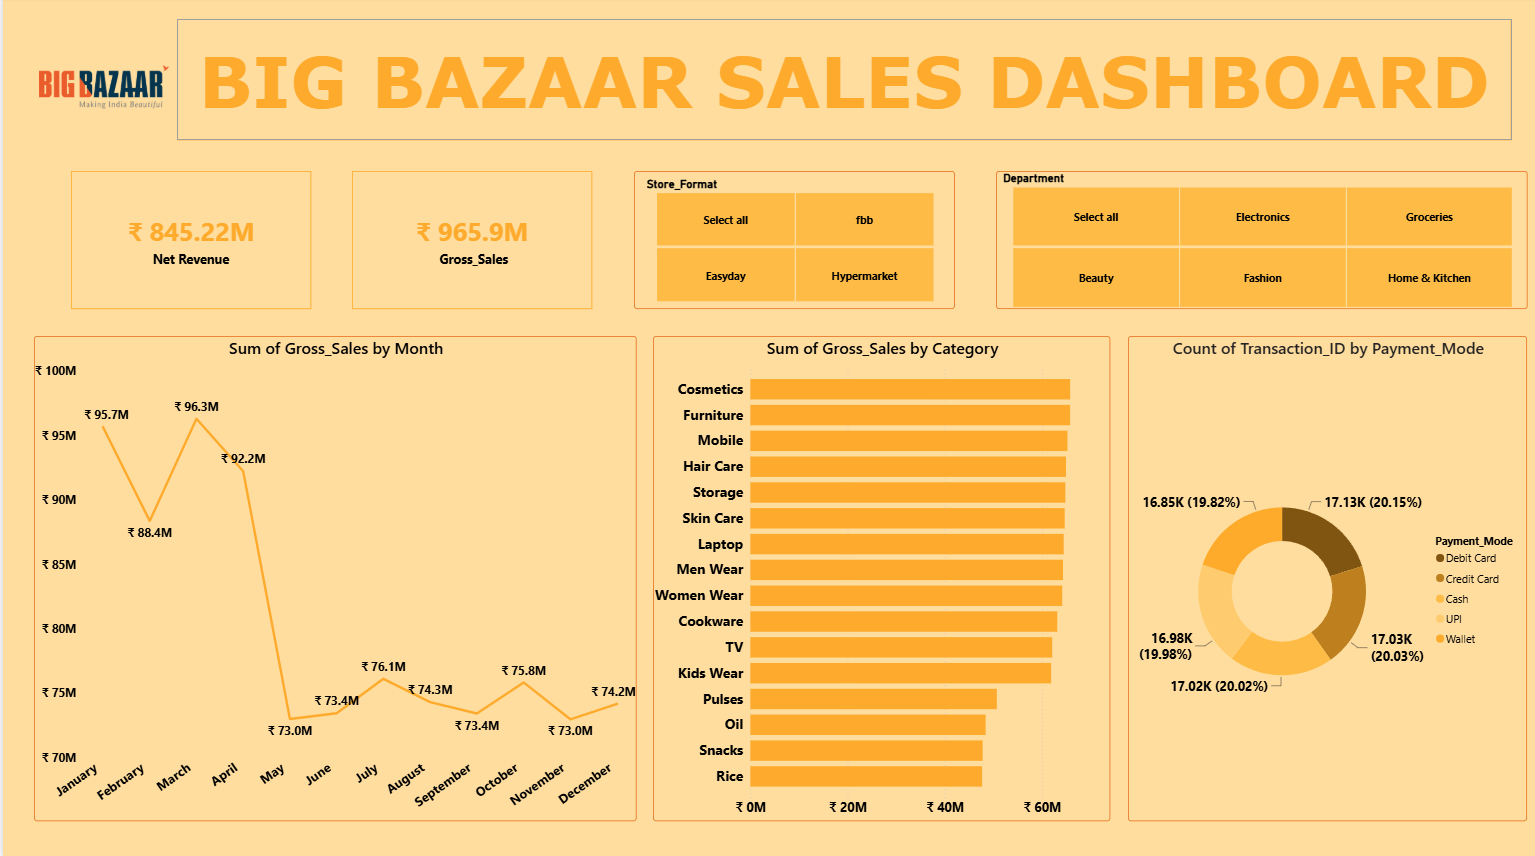

The page's visual inventory and layout, read from the dashboard file:
{"tool":"powerbi","page":{"name":"Page 1","canvas":[1920,1080],"ordinal":0},"visuals":[{"type":"lineChart","fields":{"Category":["SALES.Transaction_Date.Variation.Date Hierarchy.Year","SALES.Transaction_Date.Variation.Date Hierarchy.Quarter","SALES.Transaction_Date.Variation.Date Hierarchy.Month","SALES.Transaction_Date.Variation.Date Hierarchy.Day"],"Y":["Sum(SALES.Gross_Sales)"]},"box":[38.3,425,755,608.3],"z":0},{"type":"barChart","fields":{"Category":["SALES.Category"],"Y":["Sum(SALES.Gross_Sales)"]},"box":[815,424.3,573.3,607.8],"z":1000},{"type":"slicer","fields":{"Values":["SALES.Store_Format"]},"box":[790,218.1,401.7,172.9],"z":2000},{"type":"slicer","fields":{"Values":["SALES.Department"]},"box":[1243.6,218.1,666.4,172.9],"z":3000},{"type":"donutChart","fields":{"Category":["SALES.Payment_Mode"],"Y":["CountNonNull(SALES.Transaction_ID)"]},"box":[1409.9,424.6,500.1,607.8],"z":4000},{"type":"image","box":[45,28.3,163.3,168.3],"z":5000},{"type":"textbox","box":[218.1,27.9,1671.9,151.6],"z":6000},{"type":"card","fields":{"Values":["Sum(SALES.Net_Revenue)"]},"box":[85.1,218.1,300.6,172.9],"z":7000},{"type":"card","fields":{"Values":["Sum(SALES.Gross_Sales)"]},"box":[437.6,218.1,300.6,172.9],"z":8000}]}

Visuals, with their boxes in screenshot pixels (x1, y1, x2, y2), scaled from the page's 1920x1080 canvas onto the 1535x856 screenshot:
lineChart - SALES.Transaction_Date.Variation.Date Hierarchy.Year x SALES.Transaction_Date.Variation.Date Hierarchy.Quarter: left=31, top=337, right=634, bottom=819
barChart - SALES.Category x Sum(SALES.Gross_Sales): left=652, top=336, right=1110, bottom=818
slicer - SALES.Store_Format: left=632, top=173, right=953, bottom=310
slicer - SALES.Department: left=994, top=173, right=1527, bottom=310
donutChart - SALES.Payment_Mode x CountNonNull(SALES.Transaction_ID): left=1127, top=337, right=1527, bottom=818
image: left=36, top=22, right=167, bottom=156
textbox: left=174, top=22, right=1511, bottom=142
card - Sum(SALES.Net_Revenue): left=68, top=173, right=308, bottom=310
card - Sum(SALES.Gross_Sales): left=350, top=173, right=590, bottom=310
